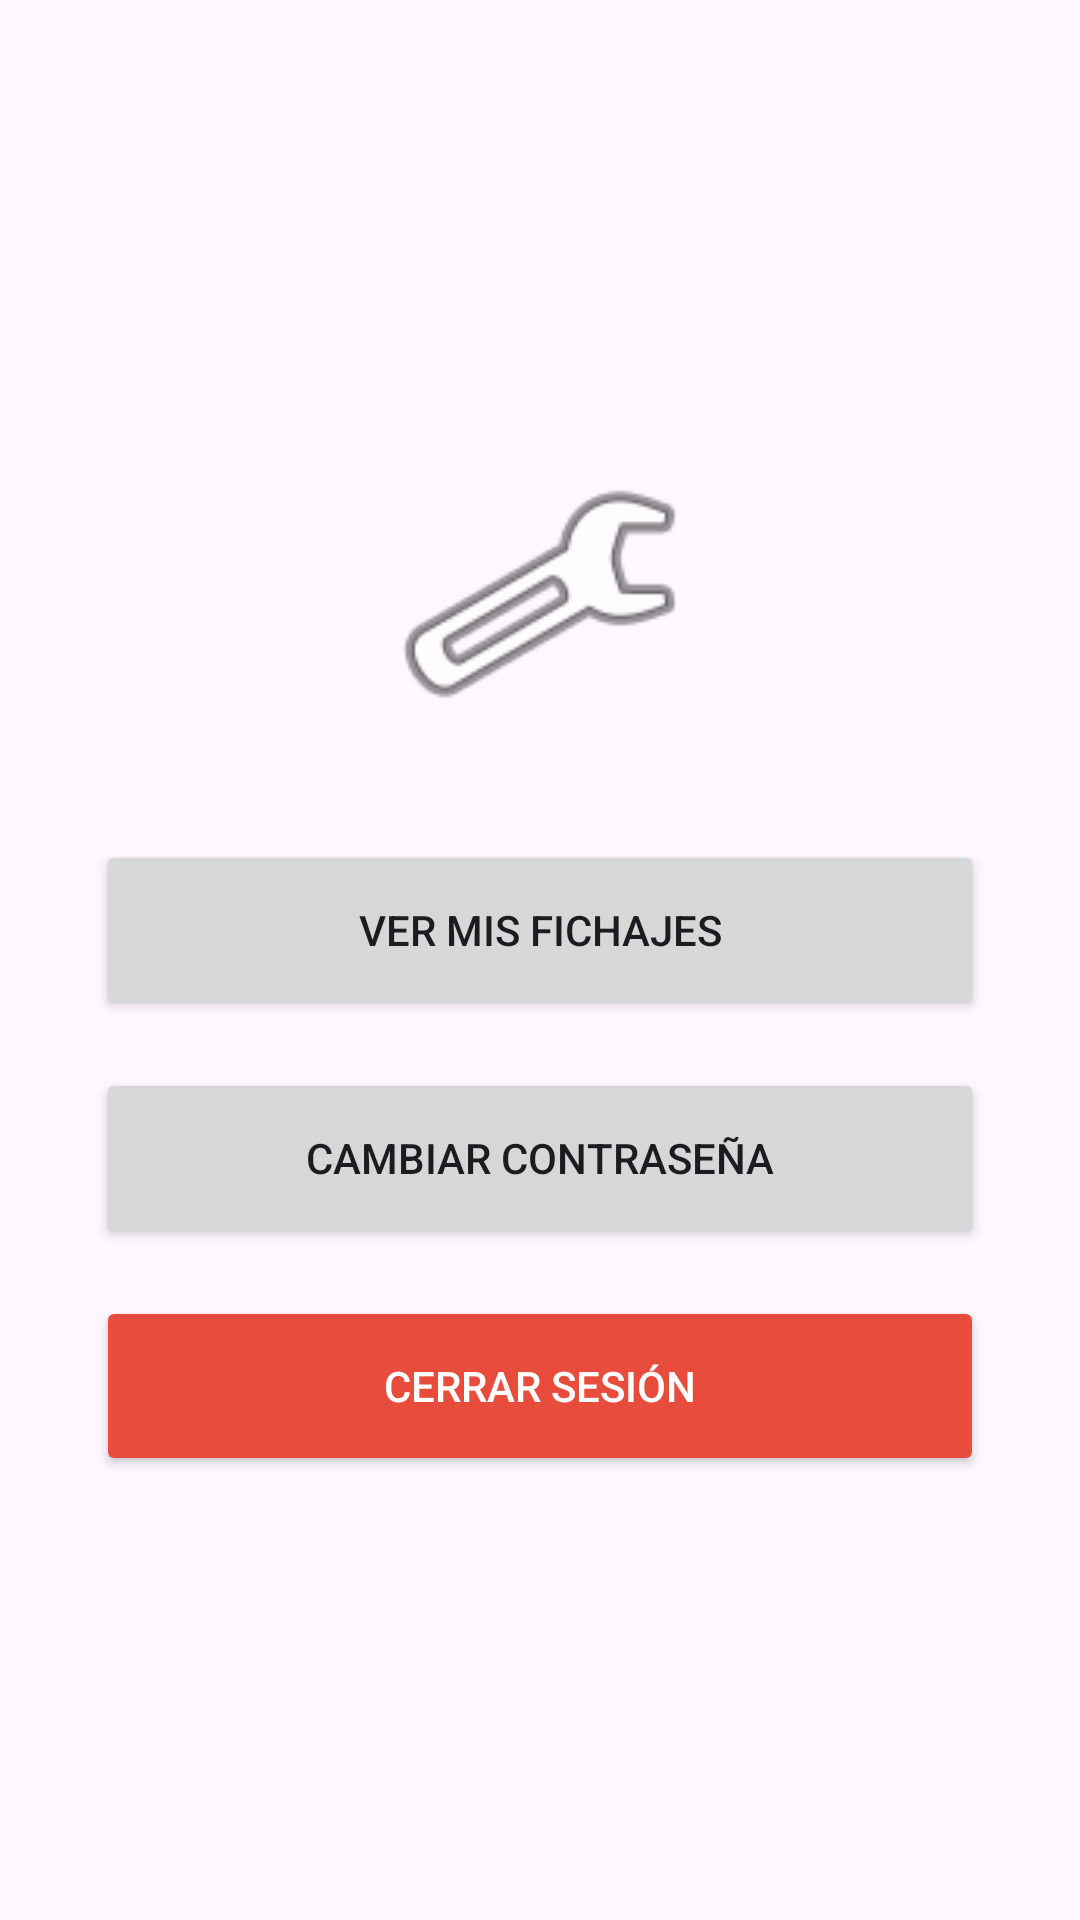

Where icons sit on this 1080*1920 app screen, as Rect(x1, y1, x2, y2):
manage: Rect(404, 490, 675, 698)
